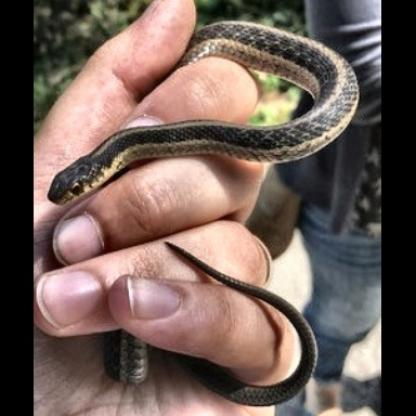Snake: (38, 20, 368, 415)
